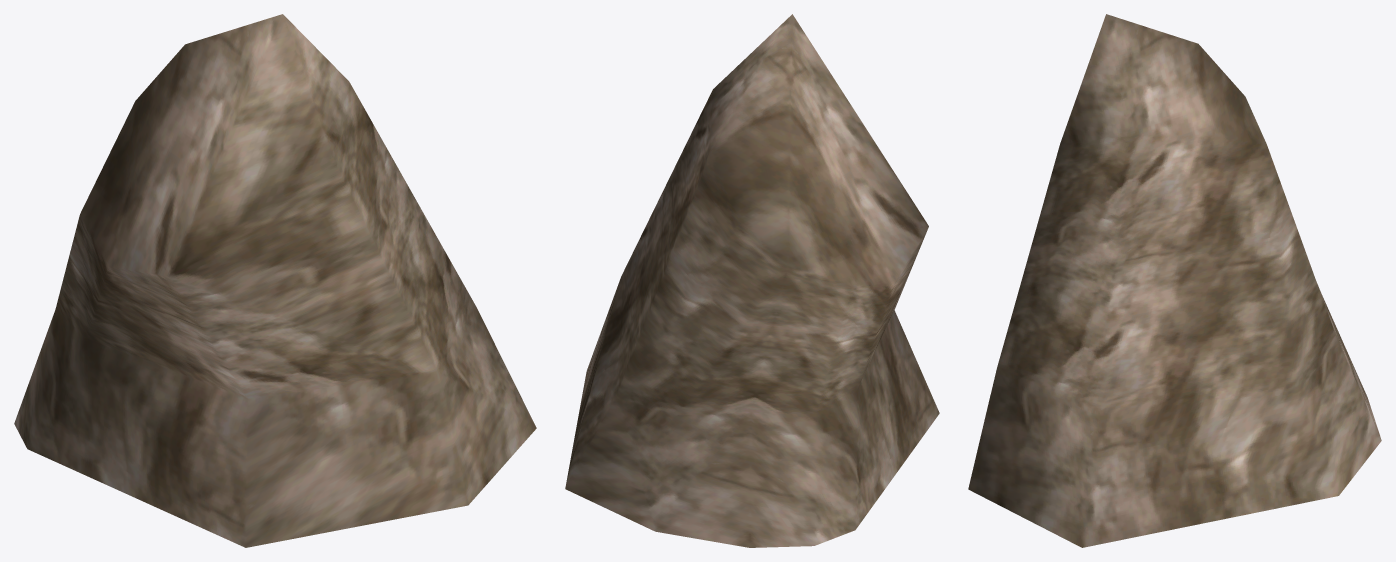
The model's file is OVERHILL_A_01_ROCK05.fbx.
3 renders of one model, left to right at view 1: azimuth 30°, elevation 25°; view 2: azimuth 150°, elevation 25°; view 3: azimuth 270°, elevation 25°, orthographic. The views are drawn at different scales.
Visible parts, largest first — view 1: OVERHILL_A_01_ROCK05; view 2: OVERHILL_A_01_ROCK05; view 3: OVERHILL_A_01_ROCK05.
Boxes of the visible parts, x1,y1,x2,y2 form: OVERHILL_A_01_ROCK05: (14, 14, 536, 547); OVERHILL_A_01_ROCK05: (565, 14, 939, 547); OVERHILL_A_01_ROCK05: (968, 14, 1381, 547).
Bounding box in the file's own units: 83557 × 91729 × 80711.
1 material, 1 textured.
